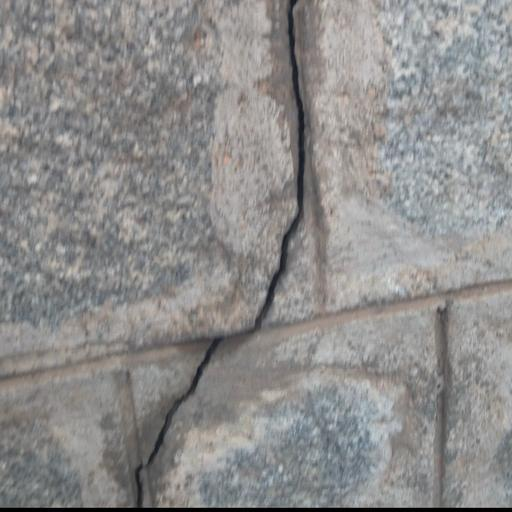major_crack: (122, 0, 314, 512)
